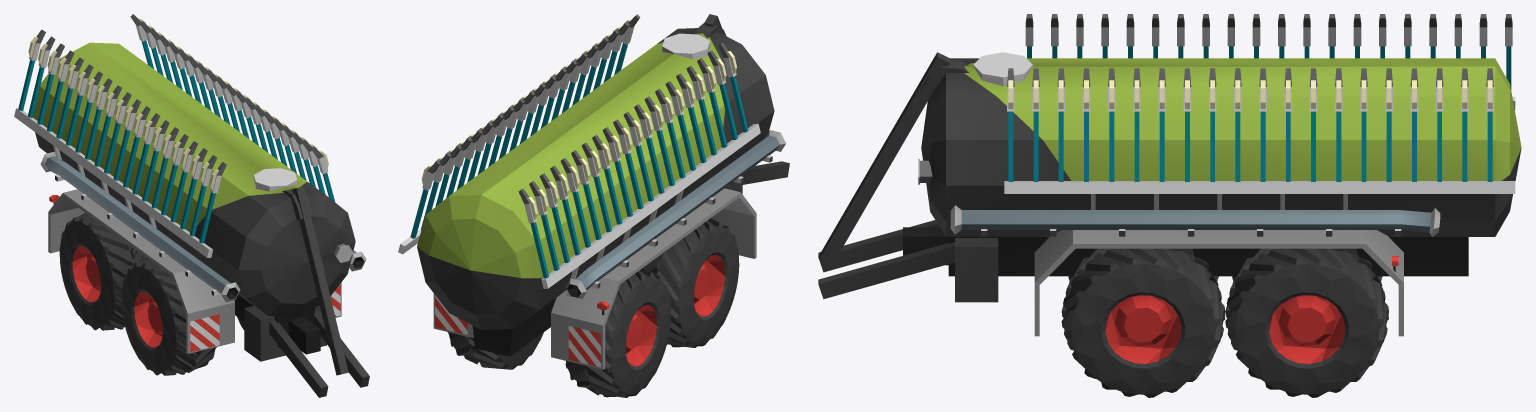
Rendered from trailer_001.glb.
The picture shows the model from 3 angles, left to right: view 1: azimuth 30°, elevation 25°; view 2: azimuth 150°, elevation 25°; view 3: azimuth 270°, elevation 25°; orthographic projection. The views are drawn at different scales.
Visible parts, largest first — view 1: trailer_001; view 2: trailer_001; view 3: trailer_001.
Boxes of the visible parts, bbox=[...] form: trailer_001: bbox=[14, 14, 369, 397]; trailer_001: bbox=[398, 14, 789, 397]; trailer_001: bbox=[818, 14, 1521, 397].
Size of the model in its own units: 2.52 by 3.67 by 7.45.
Materials: 1 (1 with a texture image).
